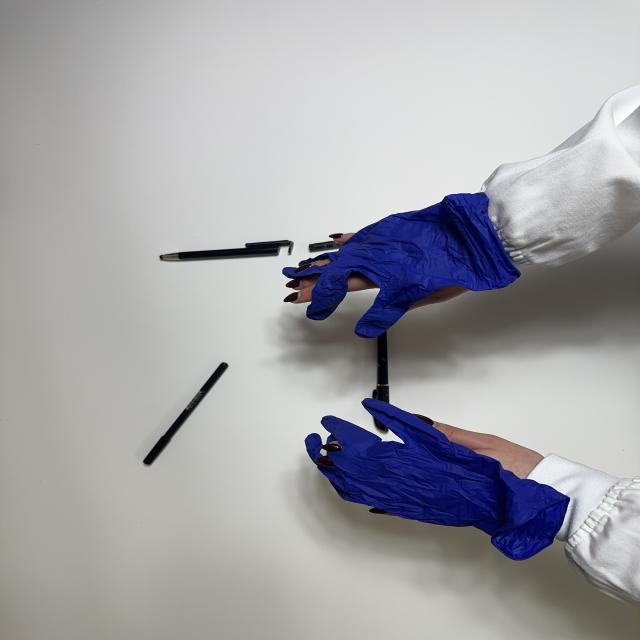glove_not_fitted: (304, 394, 568, 560), (280, 192, 526, 340)
